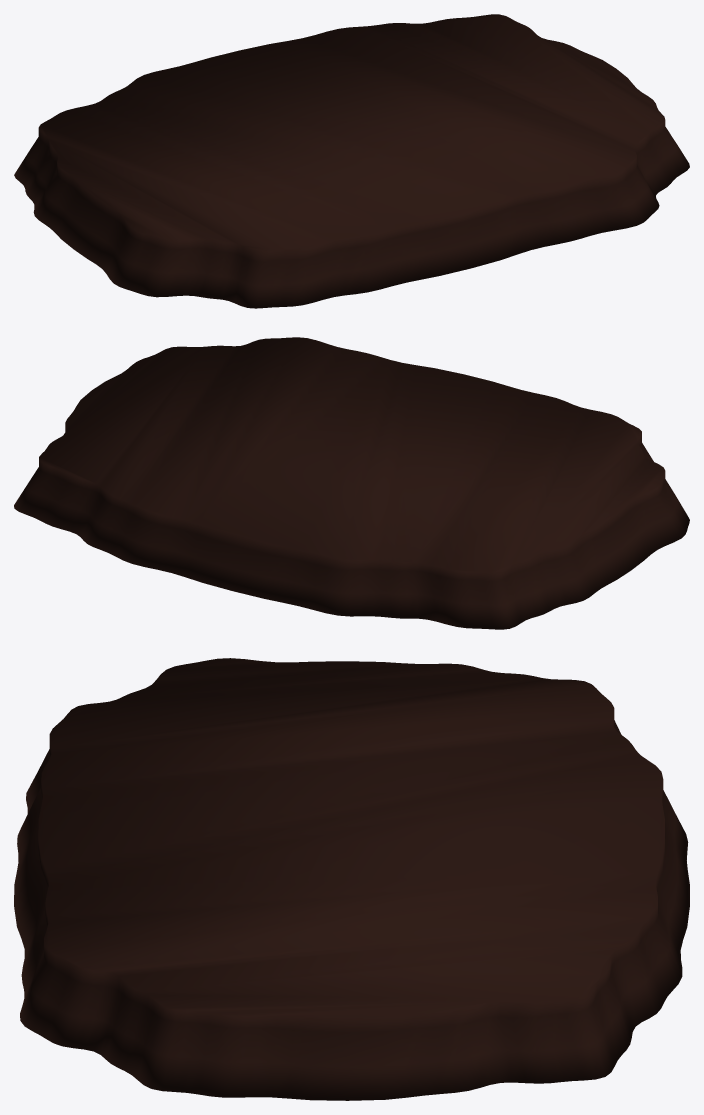
Rendered from cacao-foundation.glb.
3 renders of one model, top to bottom at view 1: azimuth 30°, elevation 25°; view 2: azimuth 150°, elevation 25°; view 3: azimuth 270°, elevation 25°, orthographic. The views are drawn at different scales.
Parts seen in each view (by area): view 1: cacao-foundation; view 2: cacao-foundation; view 3: cacao-foundation.
Boxes of the visible parts, x1=… form: cacao-foundation: x1=14, y1=14, x2=689, y2=308; cacao-foundation: x1=14, y1=337, x2=689, y2=629; cacao-foundation: x1=14, y1=658, x2=689, y2=1100.
Bounding box in the file's own units: 15.46 × 1.25 × 11.34.
